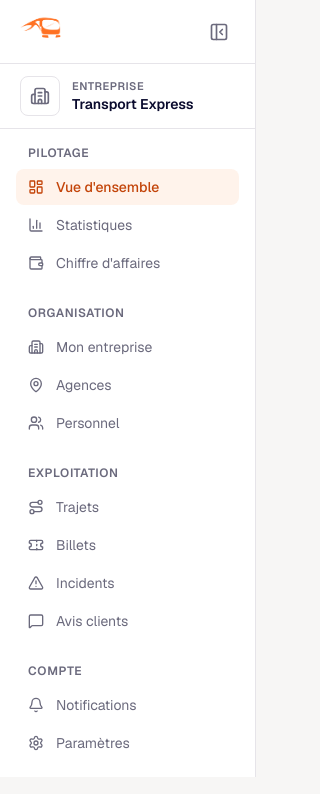
it: Sidebar › replie la barre et garde les libellés accessibles
Click the button named "Replier la barre latérale": (219, 32) [203,16,235,48]
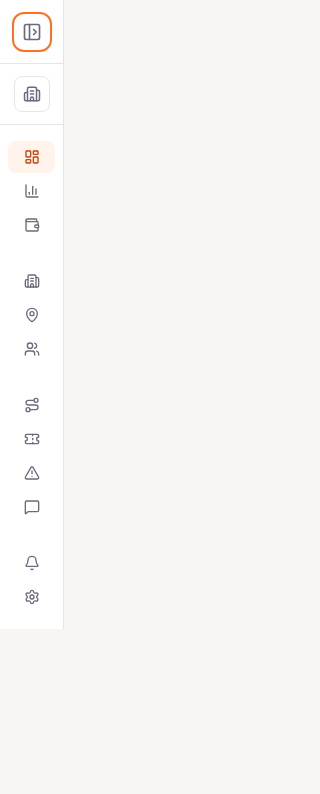
Expected: the link named "Agences" is shown, [8,299,55,331]
Expected: the button named "Déplier la barre latérale" is collapsed, [16,16,48,48]
